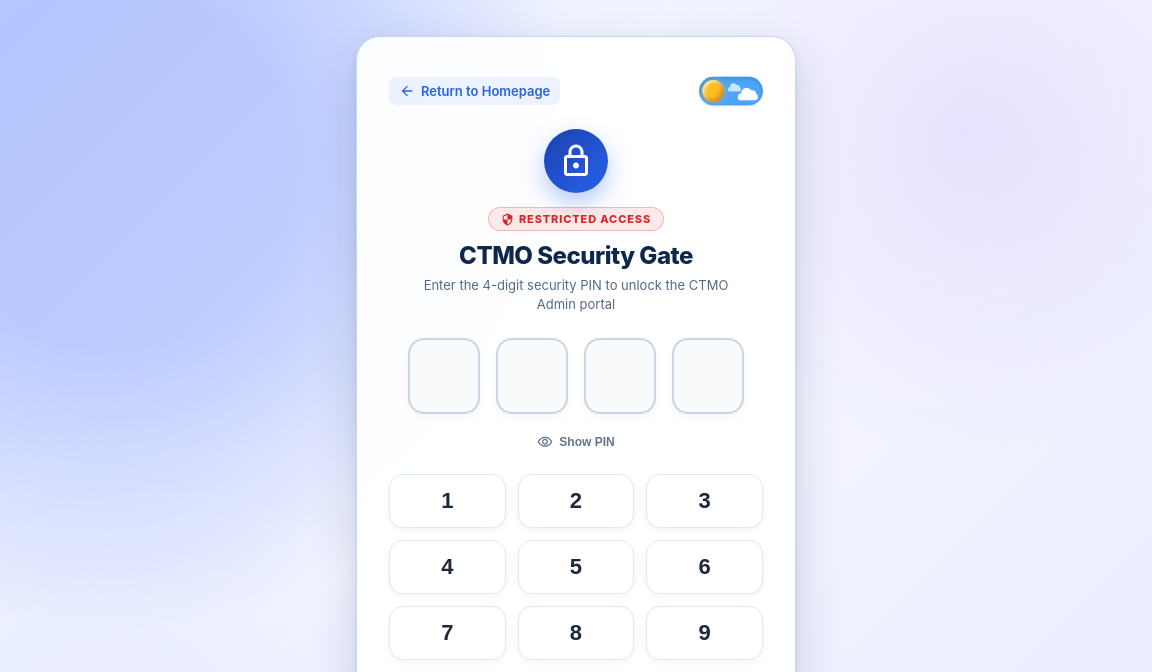
AdminSecurityGate Component › rejects an incorrect PIN and displays remaining attempts count (max 3)
In the password field named "Security PIN digit 1": (444, 376) left=408, top=338, right=480, bottom=414, type "9"
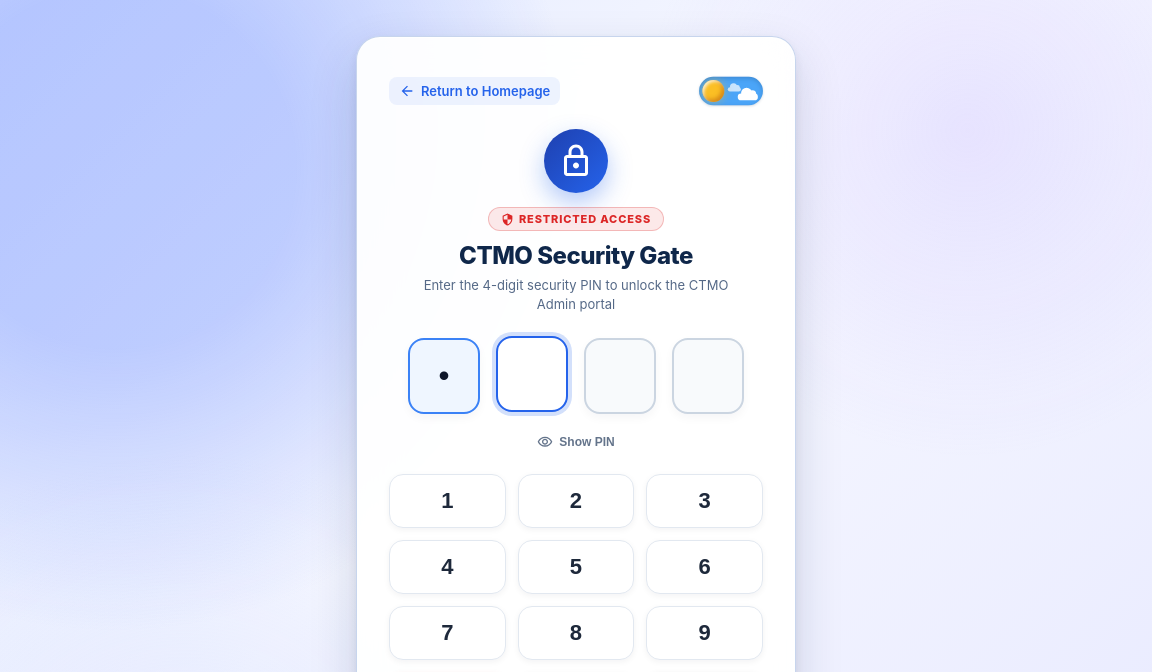
In the password field named "Security PIN digit 2": (532, 374) left=496, top=336, right=568, bottom=412, type "9"
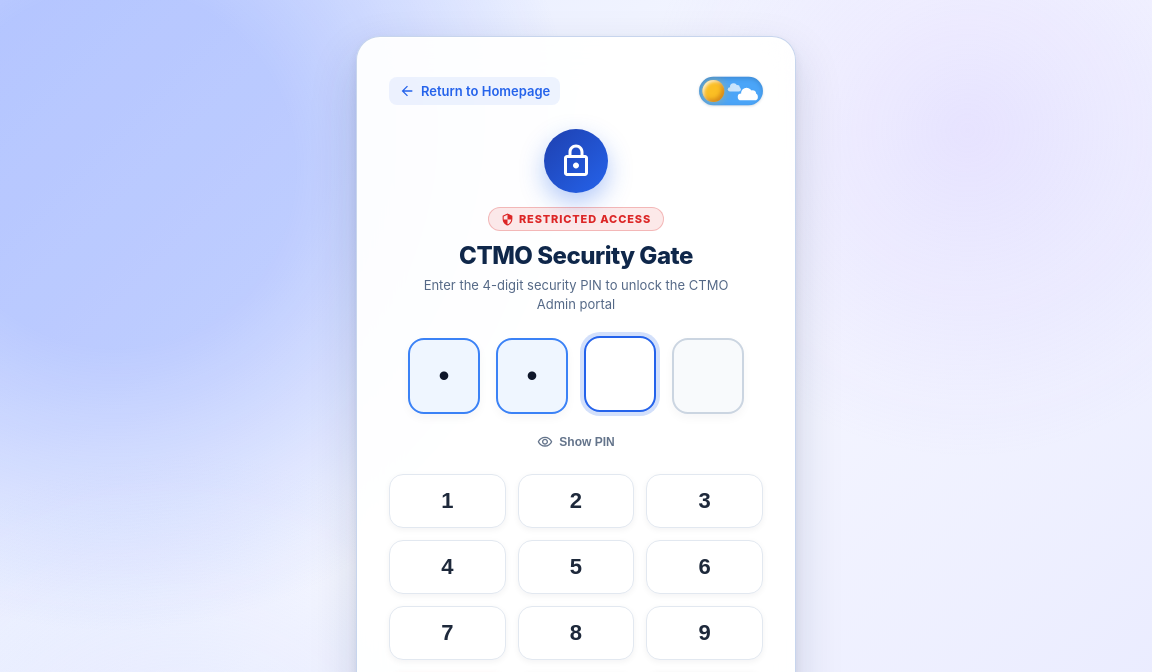
In the password field named "Security PIN digit 3": (620, 374) left=584, top=336, right=656, bottom=412, type "9"
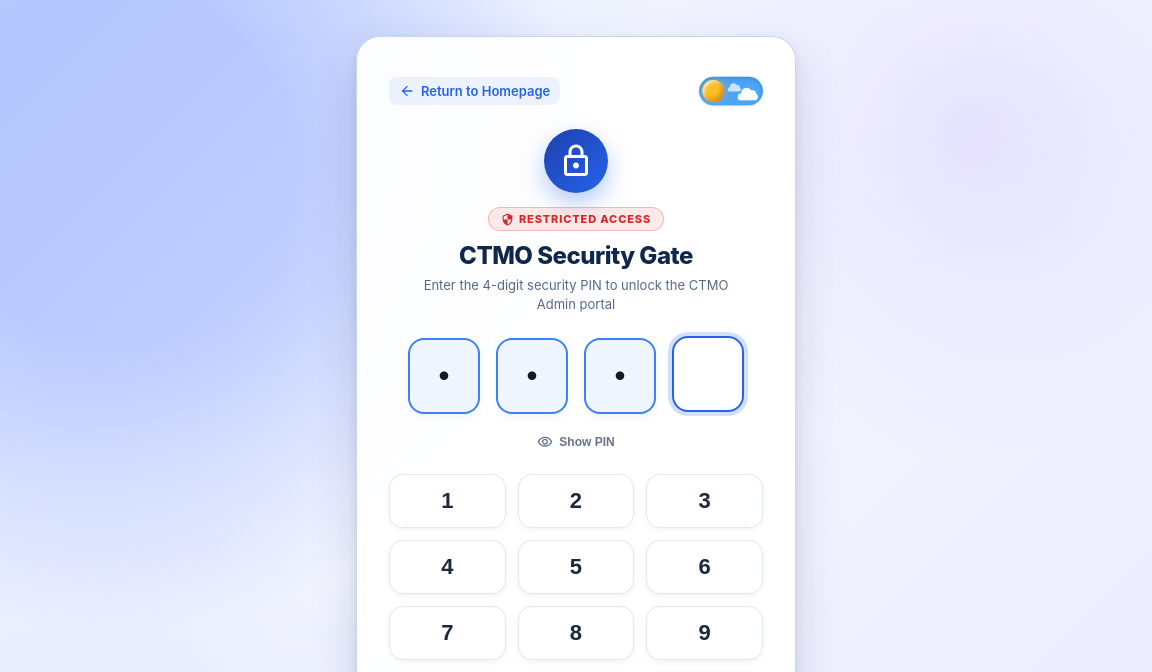
In the password field named "Security PIN digit 4": (708, 374) left=672, top=336, right=744, bottom=412, type "9"
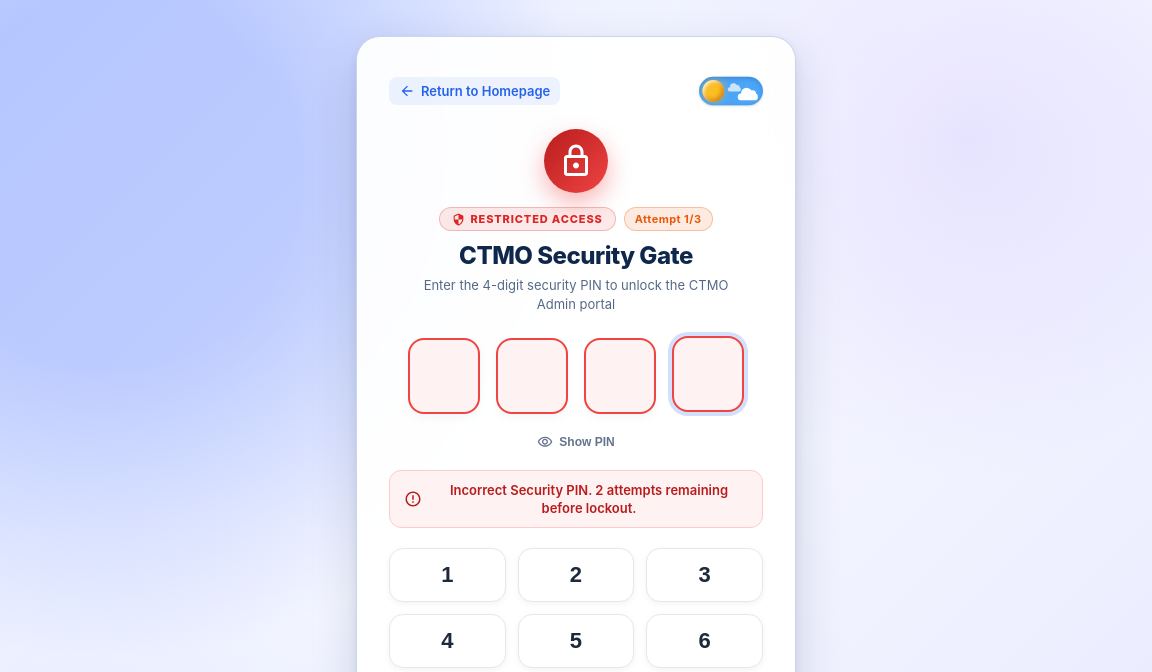
Now the message reads "Incorrect Security PIN. 2 attempts remaining before lockout.", box left=450, top=482, right=728, bottom=516
Now the text "Attempt 1/3" is shown, box left=624, top=207, right=713, bottom=231
